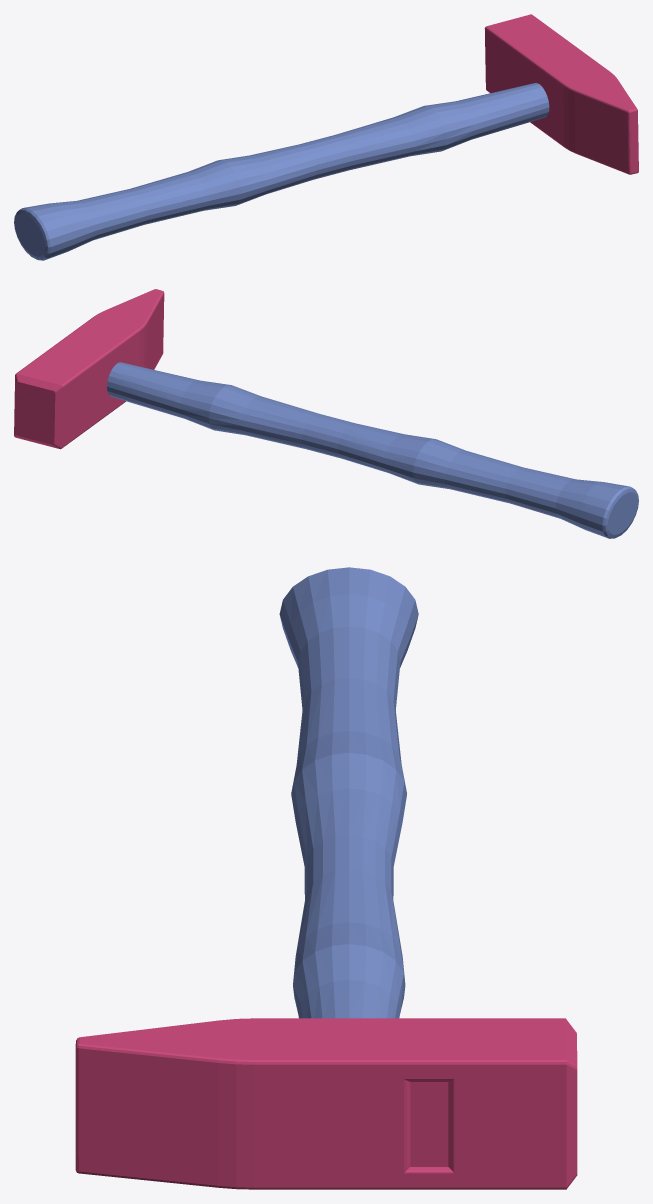
3 renders of one model, top to bottom at view 1: azimuth 30°, elevation 25°; view 2: azimuth 150°, elevation 25°; view 3: azimuth 270°, elevation 25°, orthographic. The views are drawn at different scales.
Parts seen in each view (by area): view 1: world; view 2: world; view 3: world.
Part boxes in pixels (bbox=[...]): world: bbox=[14, 14, 638, 260]; world: bbox=[14, 289, 638, 538]; world: bbox=[75, 567, 577, 1189].
Bounding box in the file's own units: 0.3923 × 0.0459 × 0.1536.
